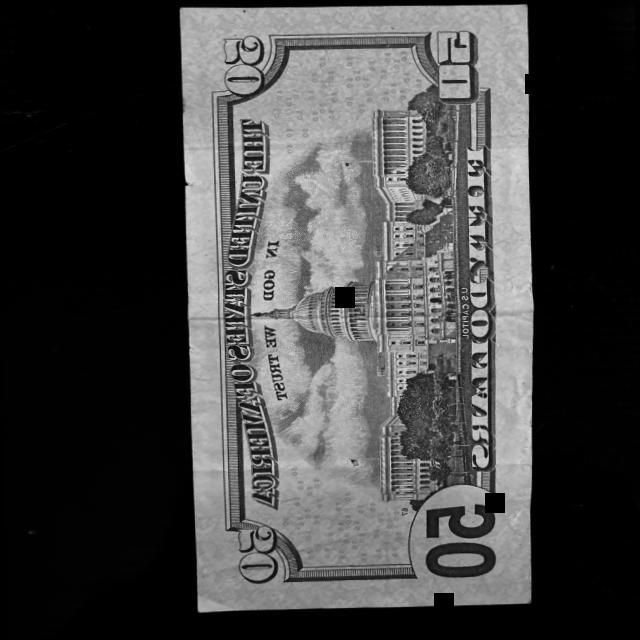fifty: (177, 0, 538, 613)
